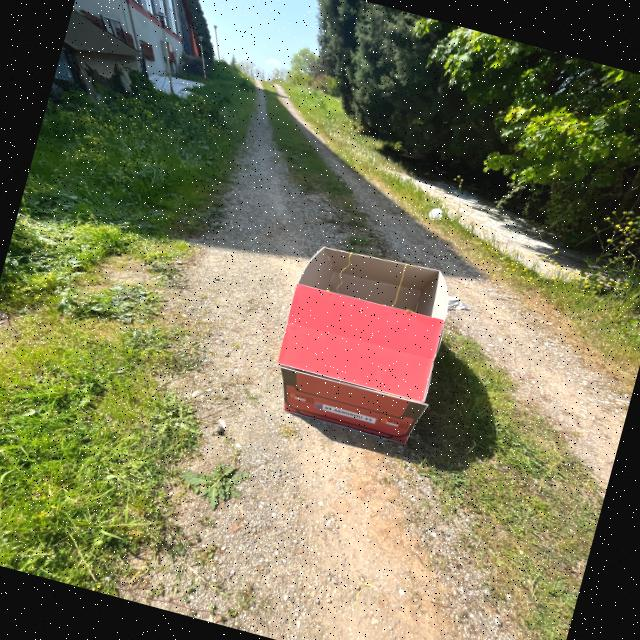red_car: (250, 222, 478, 464)
